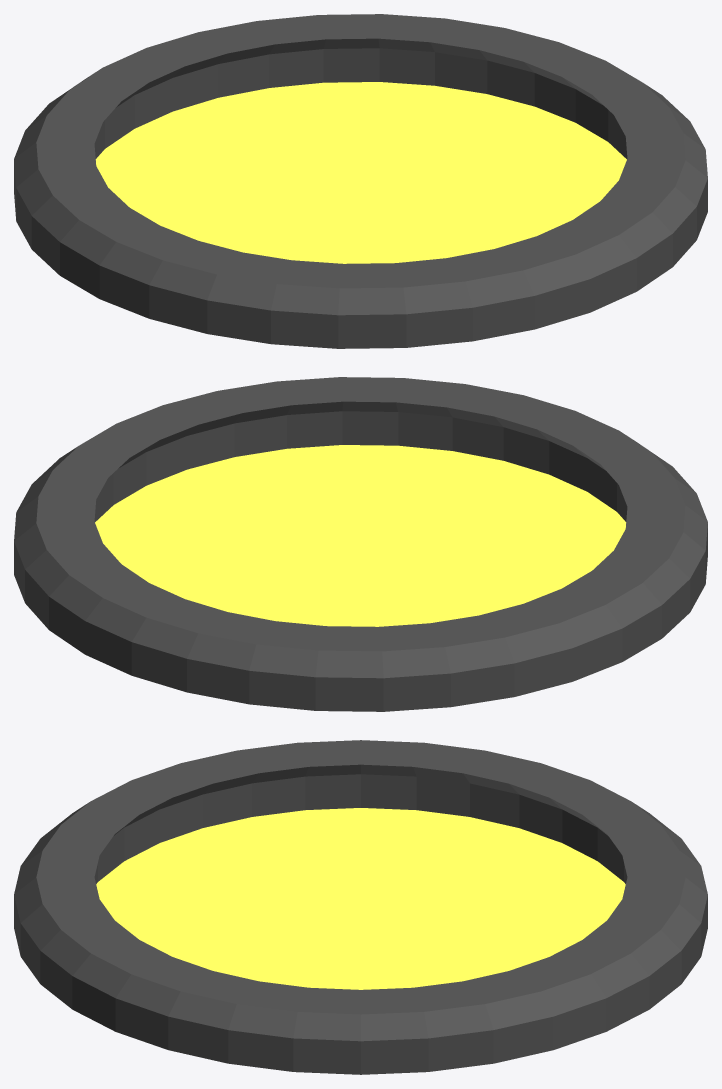
The model's file is Light.fbx.
3 views of the same model, one above another, from view 1: azimuth 30°, elevation 25°; view 2: azimuth 150°, elevation 25°; view 3: azimuth 270°, elevation 25° (orthographic).
Parts seen in each view (by area): view 1: Light; view 2: Light; view 3: Light.
Part boxes in pixels (box(x1,y1,x2,y2)): Light: box(14, 14, 707, 348); Light: box(14, 377, 707, 711); Light: box(14, 740, 707, 1074).
Size of the model in its own units: 244 by 19.72 by 244.
